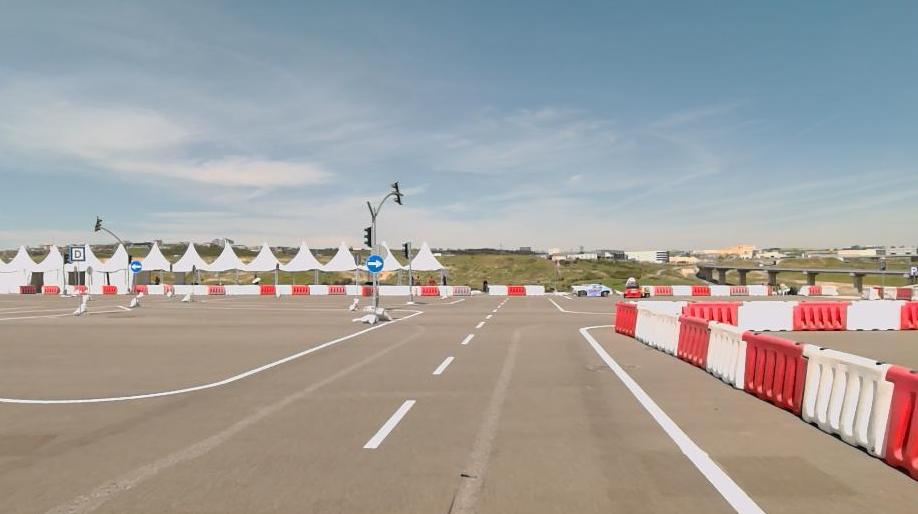nesne: (0, 299, 763, 514), (0, 302, 507, 514), (296, 303, 762, 514), (580, 328, 764, 513), (802, 343, 891, 456), (741, 329, 805, 415), (881, 364, 916, 479), (0, 386, 195, 402), (363, 397, 416, 446), (707, 321, 742, 388), (635, 304, 676, 353), (677, 313, 712, 370), (738, 301, 795, 330), (793, 299, 848, 329), (681, 298, 741, 325), (850, 299, 900, 330), (612, 299, 638, 337), (566, 310, 616, 329), (571, 282, 613, 297), (431, 354, 454, 372), (170, 284, 209, 294), (364, 306, 393, 319), (380, 285, 420, 294), (226, 284, 260, 294), (440, 284, 470, 295), (73, 294, 88, 316), (365, 254, 382, 272), (711, 284, 732, 297), (353, 313, 377, 324), (70, 245, 85, 261), (391, 180, 401, 204), (693, 284, 711, 297), (896, 287, 914, 300), (579, 323, 612, 330), (506, 283, 527, 294), (653, 284, 672, 296), (674, 284, 693, 296), (420, 285, 440, 296), (488, 284, 508, 295), (749, 285, 768, 296), (128, 290, 141, 306), (529, 283, 546, 295), (84, 284, 102, 295), (292, 283, 310, 294), (329, 284, 348, 294), (346, 284, 363, 295), (128, 259, 142, 272), (208, 284, 226, 294), (275, 284, 293, 294), (93, 215, 103, 233), (259, 284, 275, 295), (732, 285, 748, 296), (41, 285, 60, 294), (310, 285, 329, 294), (460, 332, 473, 344), (365, 284, 379, 295), (148, 284, 165, 293), (59, 285, 74, 295), (364, 226, 371, 247), (130, 285, 146, 294), (821, 285, 837, 294), (349, 299, 358, 315), (74, 285, 88, 294), (102, 285, 116, 294), (117, 284, 129, 293), (475, 321, 485, 328)
